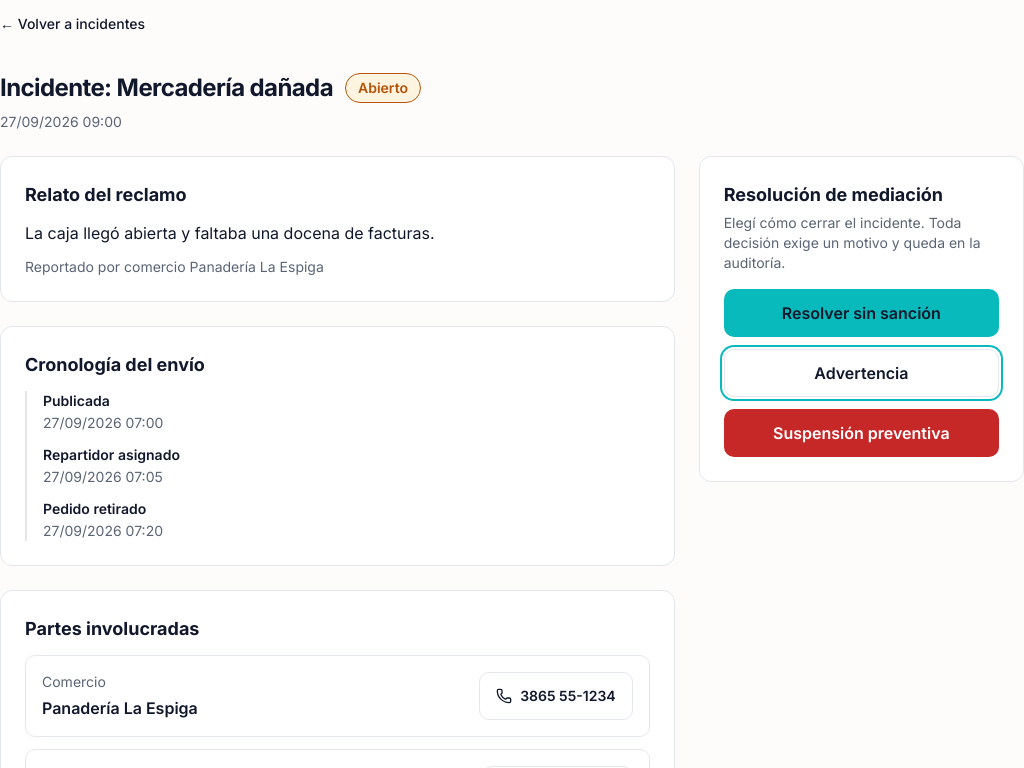
Test: PR113-H07/H08: Dialogs de resolución de A05 › muestra el error del servidor dentro del Dialog sin refrescar
Click the button "Advertencia" at (861, 373), box [724,349,999,397]
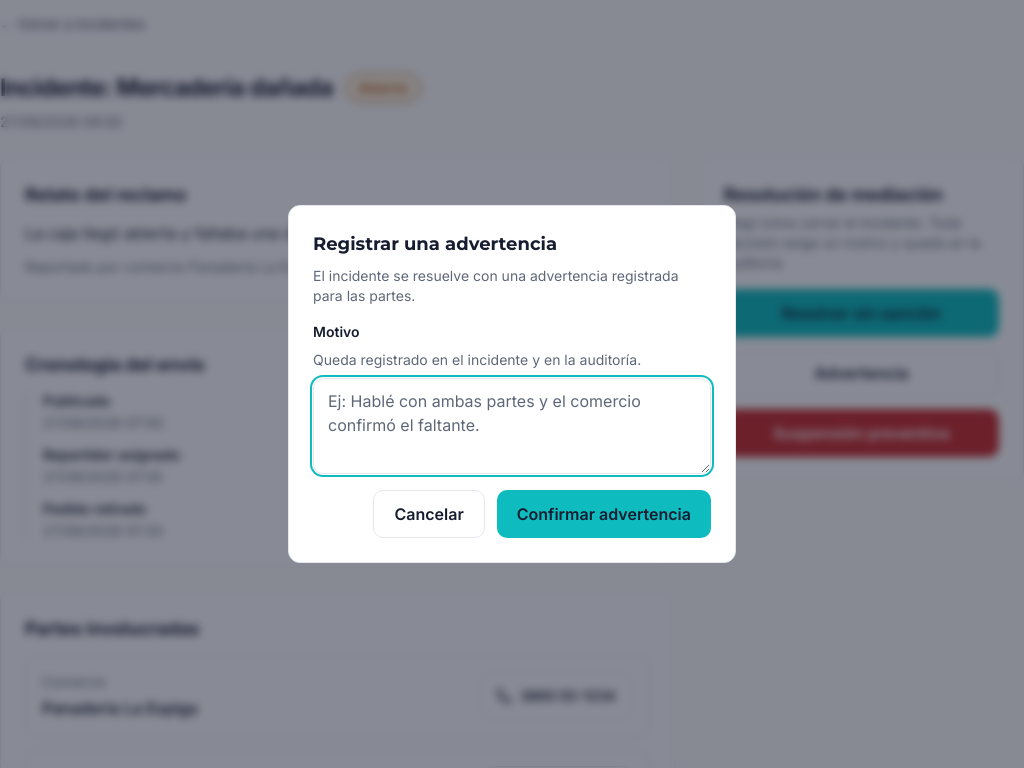
Now the text box labelled "Motivo" is shown
Replace the text in the text box labelled "Motivo" with "Reclamo grave pendiente de revisión con ambas partes." at (512, 426), box [313,378,711,474]
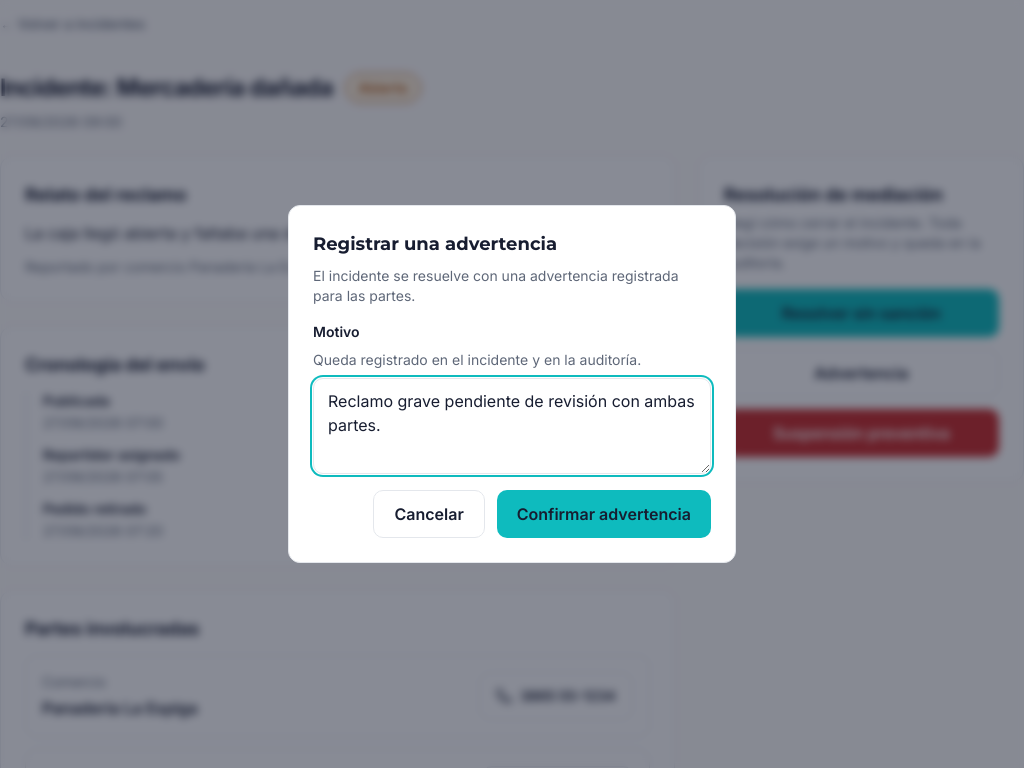
Click the button "Confirmar advertencia" at (604, 514), box [497,490,711,538]
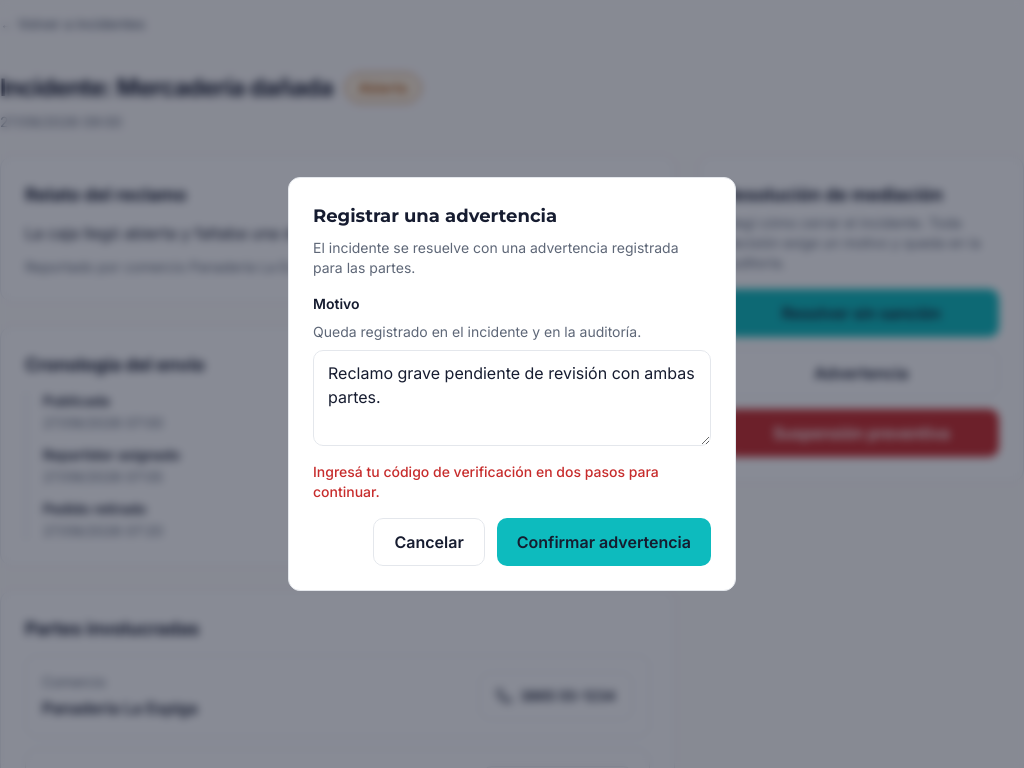
Now the dialog is shown, box [288,177,736,591]
Now the message reads "Ingresá tu código de verificación en dos pasos para continuar.", box [313,463,659,500]
